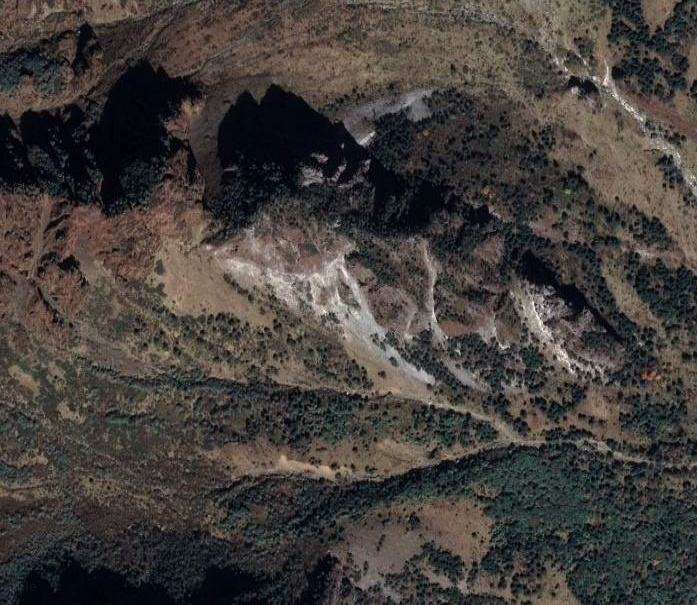slope: (215, 236, 436, 378), (509, 278, 614, 371)
